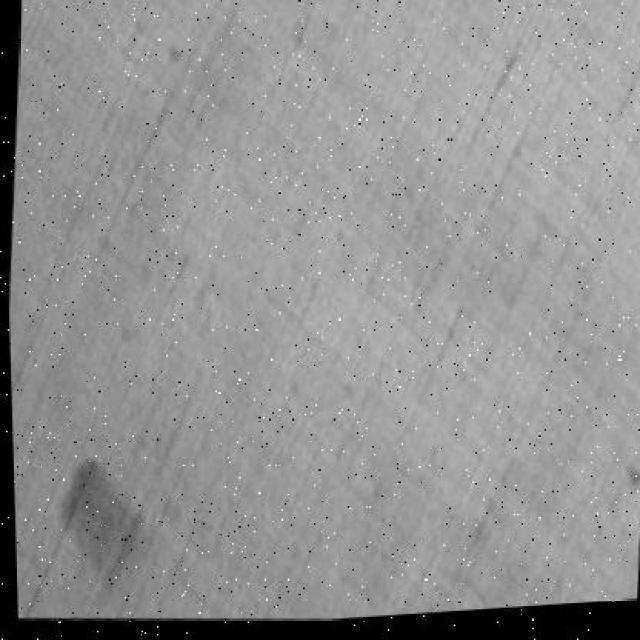Thread_other: (34, 434, 192, 604)
